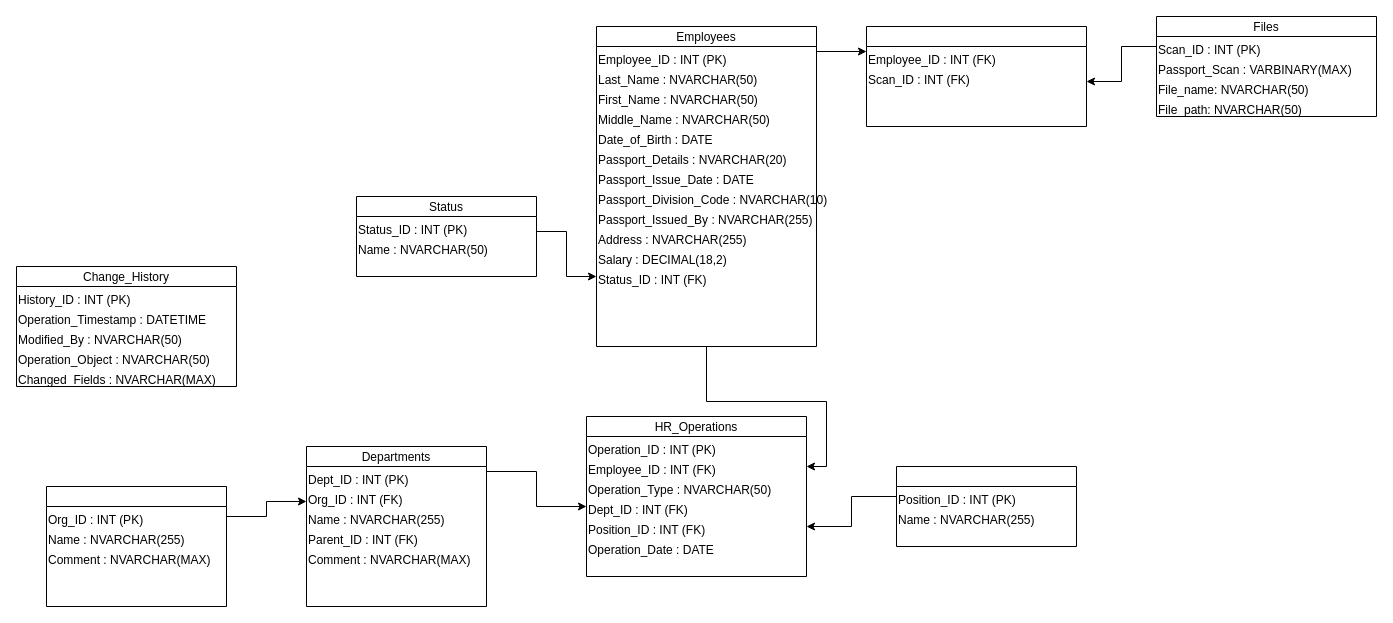
Image size: 1393x623. Some labels were removed from this diagram. Each missing label, with the box of its shape:
Organizations: (46, 486, 226, 606)
Pasport_scans: (866, 26, 1086, 126)
Positions: (896, 466, 1076, 546)
